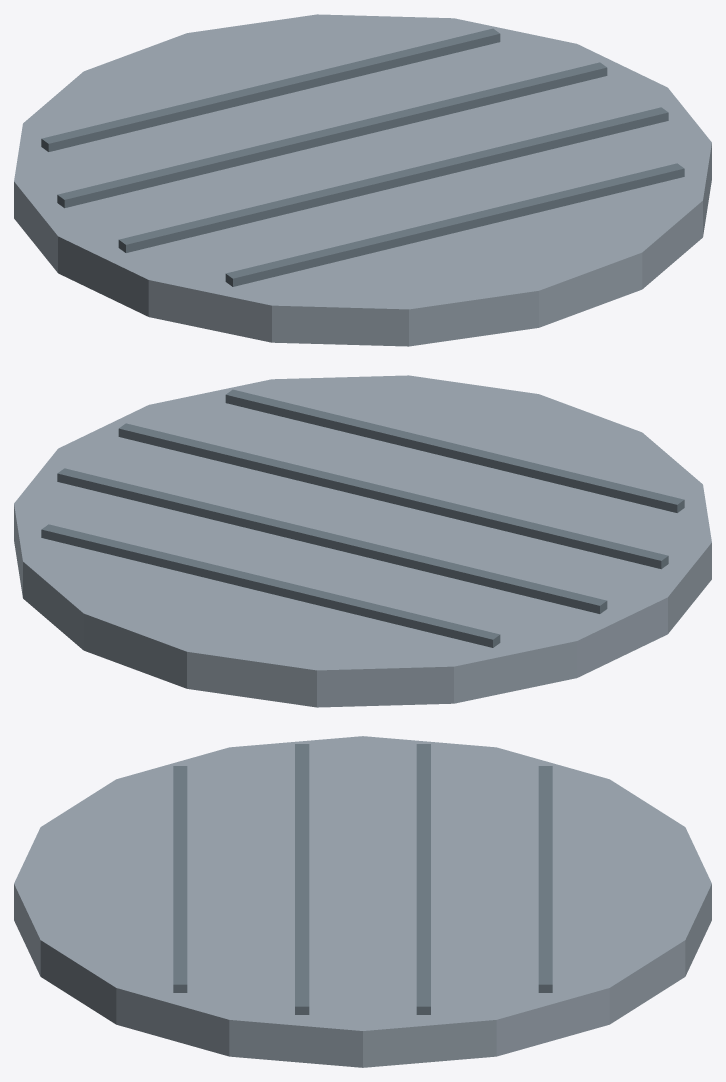
The model's file is lid.glb.
3 views of the same model, one above another, from view 1: azimuth 30°, elevation 25°; view 2: azimuth 150°, elevation 25°; view 3: azimuth 270°, elevation 25° (orthographic).
Visible parts, largest first — view 1: Separate_metal_lid, Cover_ridge.001, Cover_ridge.002, Cover_ridge, Cover_ridge.003; view 2: Separate_metal_lid, Cover_ridge.001, Cover_ridge.002, Cover_ridge.003, Cover_ridge; view 3: Separate_metal_lid, Cover_ridge.001, Cover_ridge.002, Cover_ridge, Cover_ridge.003.
Part boxes in pixels (x1,y1,x2,y2): Separate_metal_lid: [14, 14, 711, 346]; Cover_ridge.001: [118, 107, 668, 252]; Cover_ridge.002: [57, 62, 607, 208]; Cover_ridge: [225, 163, 684, 286]; Cover_ridge.003: [41, 28, 500, 151]; Separate_metal_lid: [14, 375, 711, 707]; Cover_ridge.001: [118, 423, 668, 569]; Cover_ridge.002: [57, 468, 607, 613]; Cover_ridge.003: [41, 524, 500, 647]; Cover_ridge: [225, 389, 684, 512]; Separate_metal_lid: [14, 736, 711, 1067]; Cover_ridge.001: [295, 744, 309, 1014]; Cover_ridge.002: [416, 744, 430, 1014]; Cover_ridge: [173, 766, 187, 992]; Cover_ridge.003: [538, 766, 552, 992].
Bounding box in the file's own units: 1.72 × 0.1225 × 1.72.
